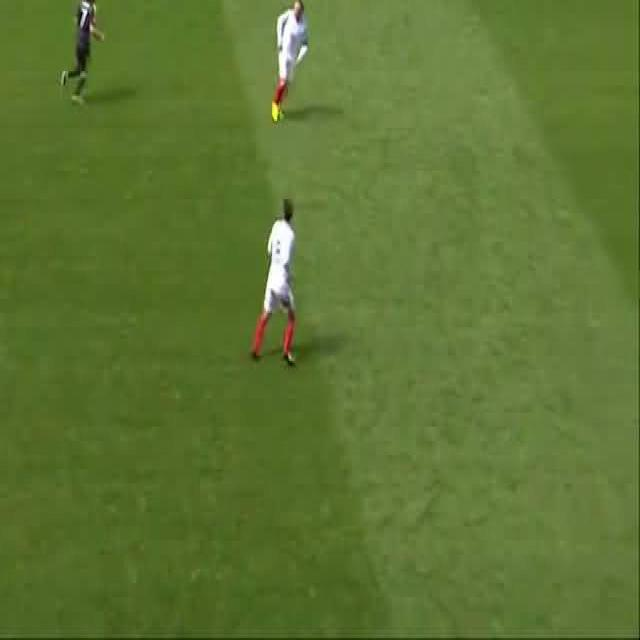player-white: (251, 198, 297, 364), (272, 0, 310, 126), (60, 0, 103, 103)
